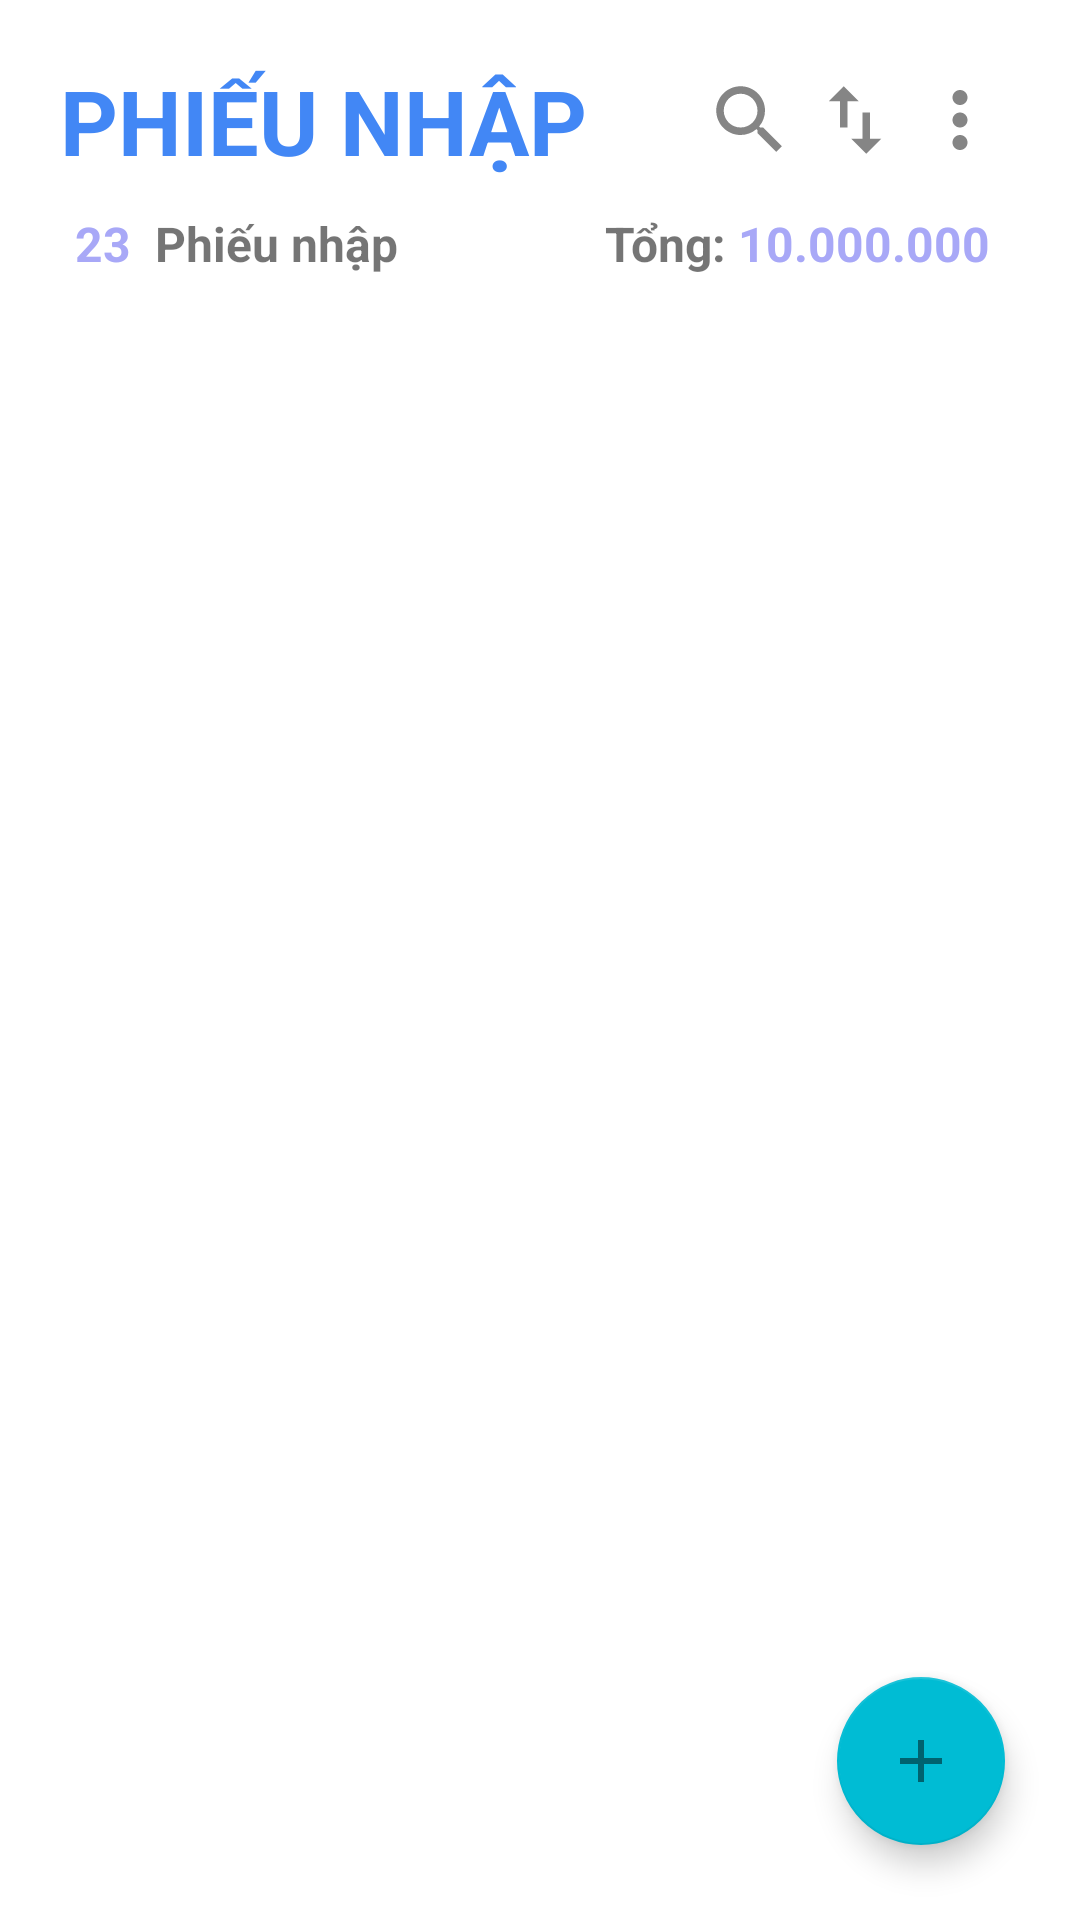

Screen size 1080×1920. Icon name, then its center in pixels as (x,y):
add: (921,1761)
more vert: (960,120)
search: (749,119)
swap vert: (855,120)
